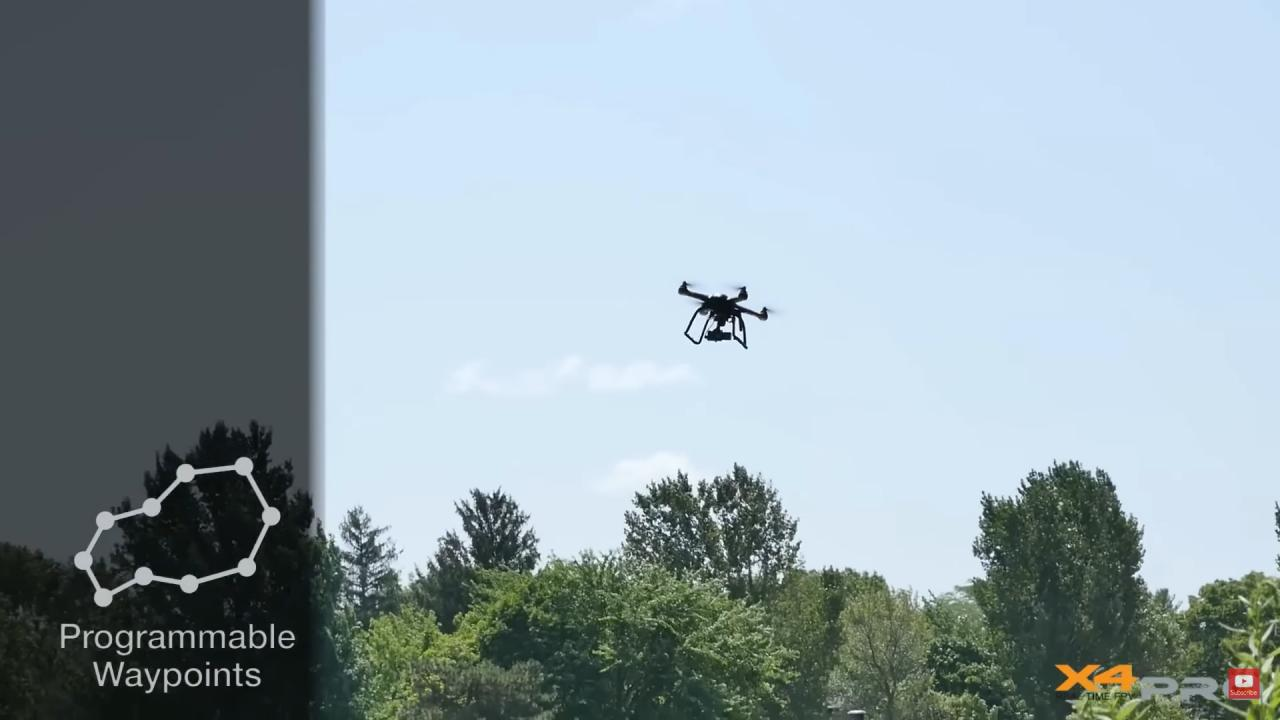Drone: (664, 270, 779, 355)
